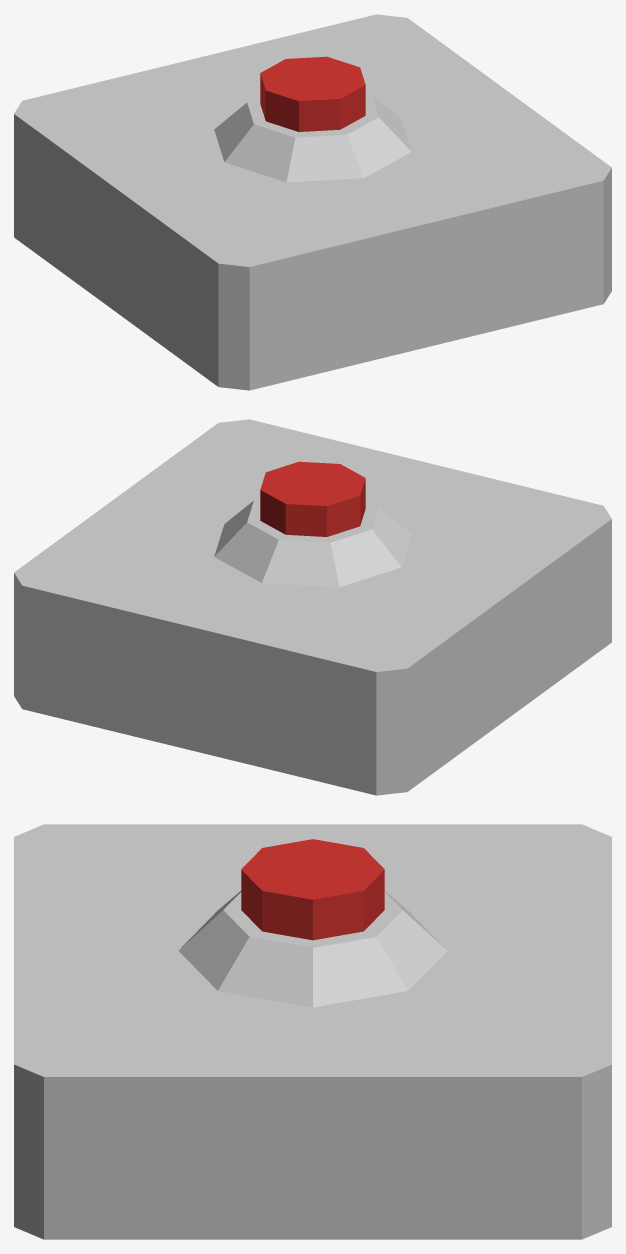
Rendered from Button.fbx.
3 views of the same model, one above another, from view 1: azimuth 30°, elevation 25°; view 2: azimuth 150°, elevation 25°; view 3: azimuth 270°, elevation 25° (orthographic). The views are drawn at different scales.
Parts seen in each view (by area): view 1: Button; view 2: Button; view 3: Button.
Boxes of the visible parts, bbox=[...] form: Button: bbox=[14, 14, 611, 390]; Button: bbox=[14, 419, 611, 795]; Button: bbox=[14, 824, 611, 1239].
Size of the model in its own units: 2 by 0.9 by 2.
